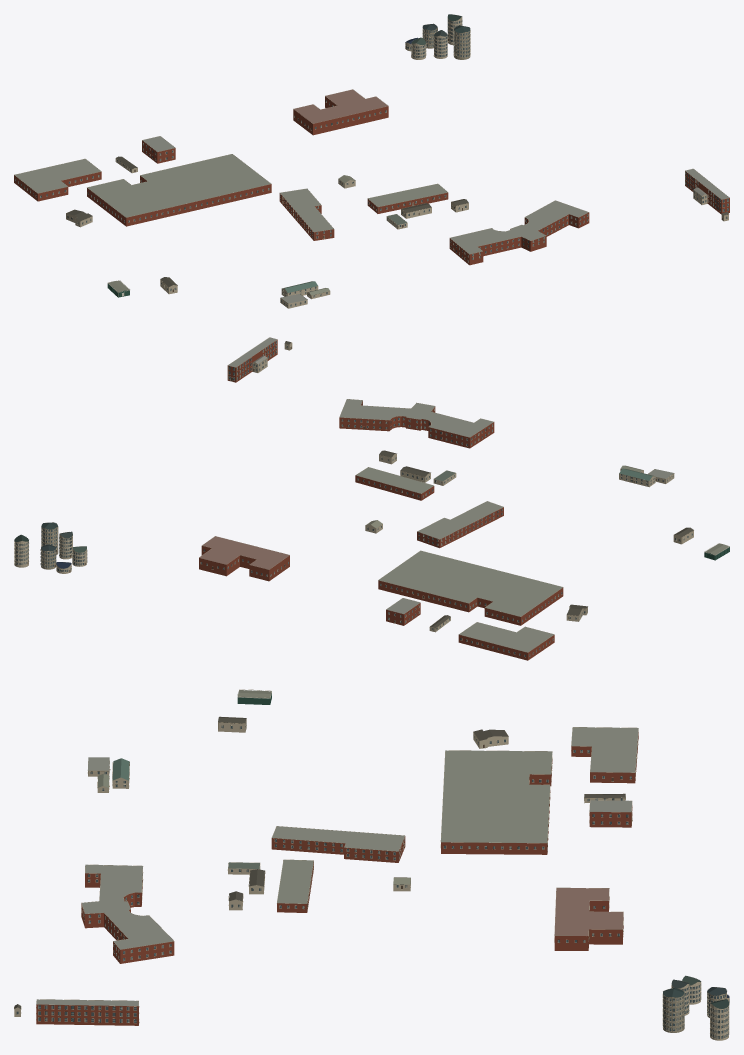
The picture shows the model from 3 angles, top to bottom: view 1: azimuth 30°, elevation 25°; view 2: azimuth 150°, elevation 25°; view 3: azimuth 270°, elevation 25°; orthographic projection. The views are drawn at different scales.
Visible parts, largest first — view 1: -6_1_271770601_0, -6_1_271770963_3, -6_1_271770602_1, -6_1_271950656_30; view 2: -6_1_271770601_0, -6_1_271770963_3, -6_1_271770602_1; view 3: -6_1_271770601_0, -6_1_271770963_3, -6_1_271770602_1, -6_1_271950656_30.
Boxes of the visible parts, bbox=[...] form: -6_1_271770601_0: bbox=[14, 14, 729, 305]; -6_1_271770963_3: bbox=[14, 96, 729, 265]; -6_1_271770602_1: bbox=[15, 17, 728, 308]; -6_1_271950656_30: bbox=[422, 28, 470, 59]; -6_1_271770601_0: bbox=[14, 337, 729, 657]; -6_1_271770963_3: bbox=[199, 339, 563, 660]; -6_1_271770602_1: bbox=[14, 340, 693, 656]; -6_1_271770601_0: bbox=[14, 689, 729, 1039]; -6_1_271770963_3: bbox=[36, 732, 638, 1025]; -6_1_271770602_1: bbox=[14, 719, 729, 1040]; -6_1_271950656_30: bbox=[663, 991, 726, 1032].
Bounding box in the file's own units: 470 × 28.8 × 414.
